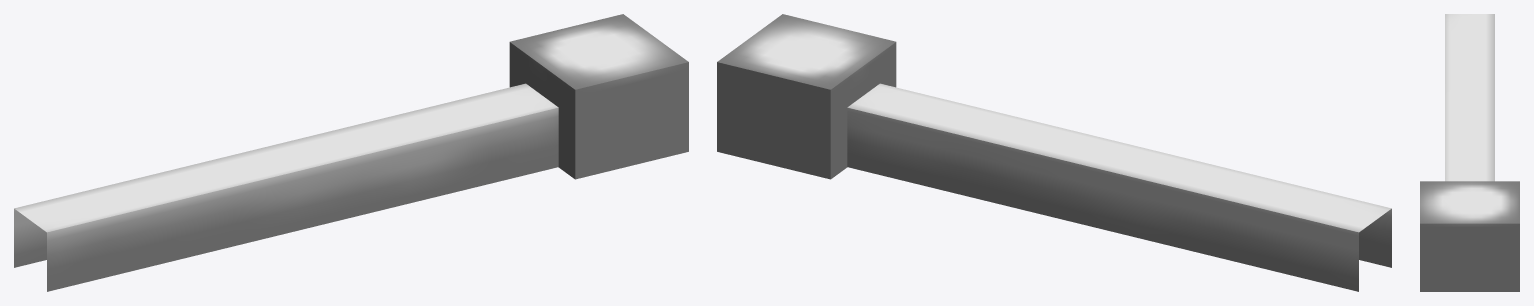
File: GearCable.fbx
3 views of the same model, side by side, from view 1: azimuth 30°, elevation 25°; view 2: azimuth 150°, elevation 25°; view 3: azimuth 270°, elevation 25° (orthographic). The views are drawn at different scales.
Visible parts, largest first — view 1: Cube; view 2: Cube; view 3: Cube.
Boxes of the visible parts, box(x1,y1,x2,y2) form: Cube: box(14, 14, 688, 291); Cube: box(717, 14, 1391, 291); Cube: box(1420, 14, 1519, 291).
Bounding box in the file's own units: 440 × 60.29 × 80.
1 material, 1 textured.
